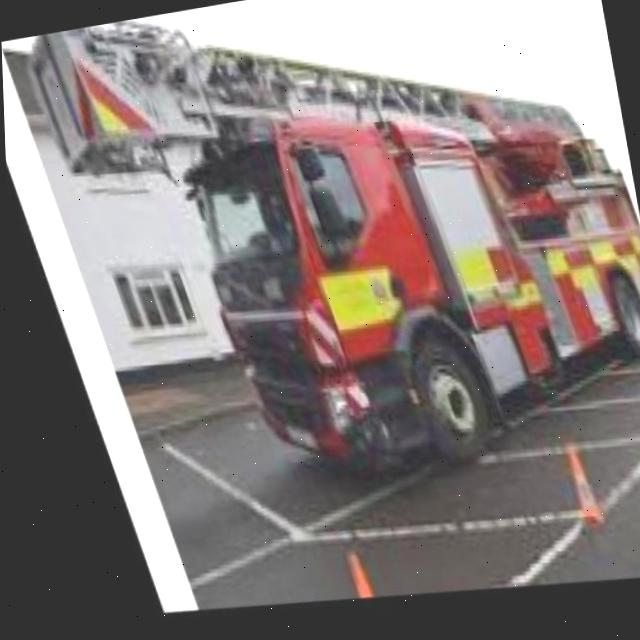emergency: (165, 57, 640, 508)
